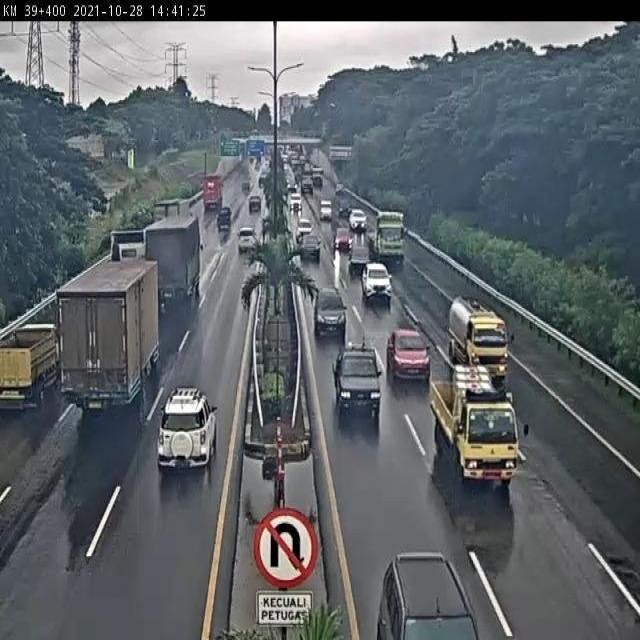big truck: (101, 228, 147, 281)
car: (155, 388, 218, 471), (333, 344, 381, 417), (387, 328, 431, 383), (314, 287, 347, 336), (363, 261, 393, 300), (347, 245, 370, 271), (237, 227, 257, 252)
mid truck: (53, 258, 160, 402), (144, 217, 203, 303), (152, 198, 190, 238)
small truck: (0, 321, 56, 404)
truck-m-: (428, 369, 521, 488), (448, 295, 509, 380)
